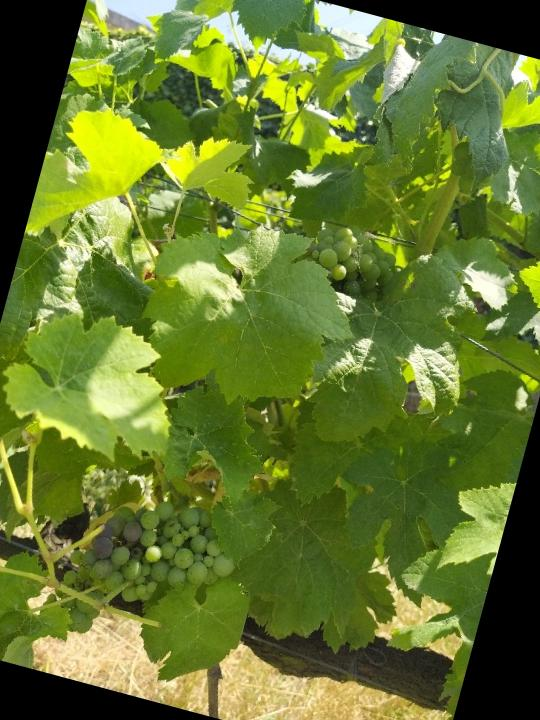grape: (42, 476, 250, 669)
